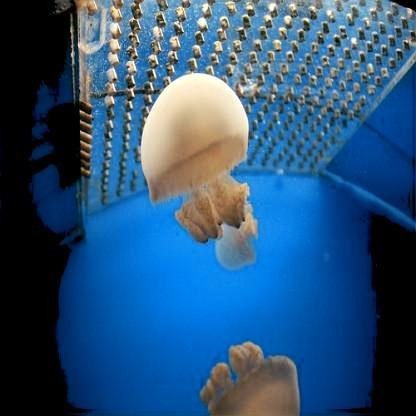Handstand: (139, 75, 251, 250), (197, 341, 301, 415), (215, 205, 261, 271)
